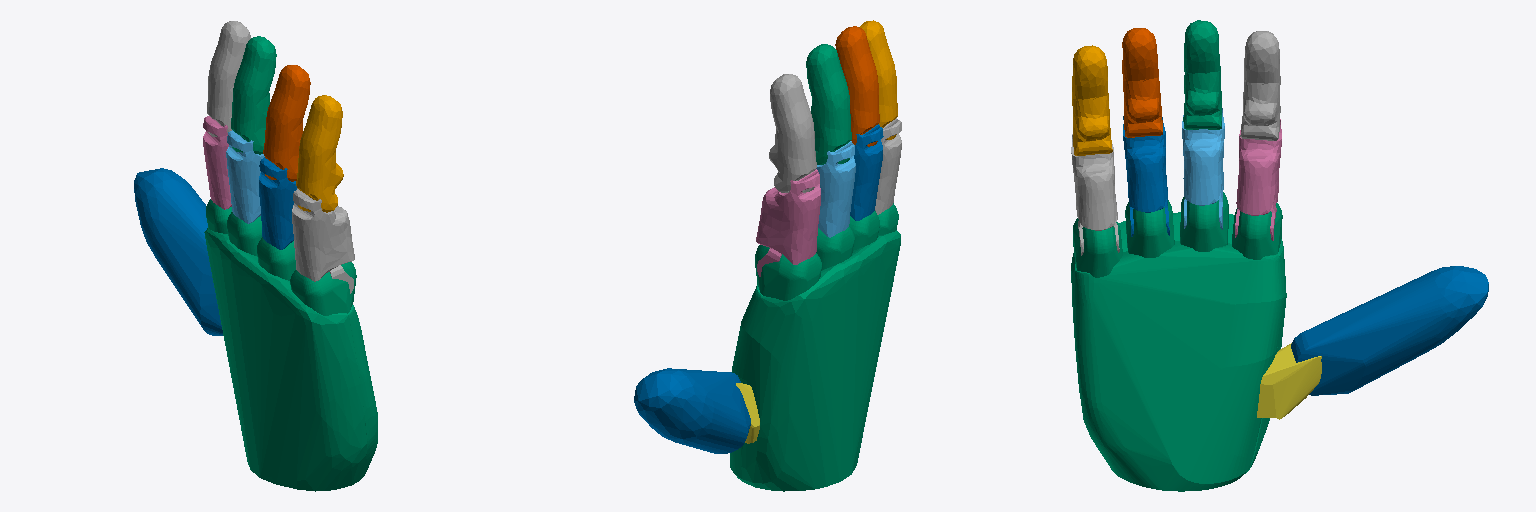
robot.urdf — ability_hand:
<?xml version='1.0' encoding='utf-8'?>
<robot name="ability_hand">
  <mujoco>
    <compiler balanceinertia="true" discardvisual="false" fusestatic="false" inertiafromgeom="false" />
  </mujoco>
  <link name="hand_root" />
  <joint name="hand_root_joint" type="fixed">
    <parent link="hand_root" />
    <child link="base" />
    <origin xyz="0 0 0" rpy="0 0 -1.57079" />
  </joint>
  <link name="base">
    <visual name="base_wristmesh_visual">
      <origin rpy="0 0 0" xyz="0 0 0" />
      <geometry>
        <mesh filename="meshes/visual/wristmesh.obj" />
      </geometry>
    </visual>
    <collision>
      <origin xyz="0 0 0" rpy="0 0 0" />
      <geometry>
        <mesh filename="meshes/collision/wristmesh_C_collision000.obj" />
      </geometry>
    </collision>
    <inertial>
      <mass value="0.200" />
      <inertia ixx="978.26e-6" ixy="87.34e-6" ixz="322.99e-6" iyy="1244.78e-6" iyz="244.74e-6" izz="456.22e-6" />
      <origin xyz="22.41911e-3 -0.15798201e-3 -0.01319866e-3" rpy="0 0 0" />
    </inertial>
  </link>
  <joint name="wrist2thumb" type="fixed">
    <parent link="base" />
    <child link="thumb_base" />
    <origin xyz="-24.0476665e-3 3.78124745e-3 32.32964923e-3" rpy="3.14148426 -0.08848813 -3.14036612" />
  </joint>
  <link name="thumb_base">
    <inertial>
      <mass value="0.200" />
      <inertia ixx="978.26e-6" ixy="87.34e-6" ixz="322.99e-6" iyy="1244.78e-6" iyz="244.74e-6" izz="456.22e-6" />
      <origin xyz="22.41911e-3 -0.15798201e-3 -0.01319866e-3" rpy="0 0 0" />
    </inertial>
    <visual name="thumb_base_FB_palm_ref_MIR_visual">
      <origin rpy="0 0 0" xyz="0 0 0" />
      <geometry>
        <mesh filename="meshes/visual/FB_palm_ref_MIR.obj" />
      </geometry>
    </visual>
    <collision name="thumb_base_collision_part000">
      <origin xyz="0 0 0" rpy="0 0 0" />
      <geometry>
        <mesh filename="meshes/collision/FB_palm_ref_MIR_collision000.obj" />
      </geometry>
    </collision>
    <collision name="thumb_base_collision_part001">
      <origin xyz="0 0 0" rpy="0 0 0" />
      <geometry>
        <mesh filename="meshes/collision/FB_palm_ref_MIR_collision001.obj" />
      </geometry>
    </collision>
    <collision name="thumb_base_collision_part002">
      <origin xyz="0 0 0" rpy="0 0 0" />
      <geometry>
        <mesh filename="meshes/collision/FB_palm_ref_MIR_collision002.obj" />
      </geometry>
    </collision>
    <collision name="thumb_base_collision_part003">
      <origin xyz="0 0 0" rpy="0 0 0" />
      <geometry>
        <mesh filename="meshes/collision/FB_palm_ref_MIR_collision003.obj" />
      </geometry>
    </collision>
    <collision name="thumb_base_collision_part004">
      <origin xyz="0 0 0" rpy="0 0 0" />
      <geometry>
        <mesh filename="meshes/collision/FB_palm_ref_MIR_collision004.obj" />
      </geometry>
    </collision>
  </link>
  <link name="thumb_L1">
    <inertial>
      <mass value="0.00268342" />
      <inertia ixx="0.16931e-4" ixy="-0.076214e-4" ixz="-0.16959148e-4" iyy="0.77769934e-4" iyz="0.0156622e-4" izz="0.7249122e-4" />
      <origin rpy="0 0 0" xyz="14.606e-3 -1.890854e-3 -3.1155356e-3" />
    </inertial>
    <visual name="thumb_L1_thumb-F1-MIR_visual">
      <origin xyz=" 27.8283501e-3 1.7436510745838653e-19 14.7507e-3 " rpy=" 1.832595714594045 -0.0 5.366520605522463e-18 " />
      <geometry>
        <mesh filename="meshes/visual/thumb-F1-MIR.obj" />
      </geometry>
    </visual>
    <collision>
      <origin xyz="27.8283501e-3 1.7436510745838653e-19 14.7507e-3" rpy="1.832595714594045 -0.0 5.366520605522463e-18" />
      <geometry>
        <mesh filename="meshes/collision/thumb-F1-MIR_C_collision000.obj" />
      </geometry>
    </collision>
  </link>
  <link name="thumb_L2">
    <inertial>
      <mass value="0.0055" />
      <inertia ixx="4.4789082e-4" ixy="4.4789082e-4" ixz="-0.62144934e-4" iyy="15.600996e-4" iyz="-0.07466143e-4" izz="17.908554e-4" />
      <origin rpy="0 0 0" xyz="30.020522e-3 5.59476e-3 -4.1504356e-3" />
    </inertial>
    <visual name="thumb_L2_thumb-F2_visual">
      <origin xyz="65.18669e-3 23.34021e-3 3.93483e-3" rpy="-3.141592 0 0.343830" />
      <geometry>
        <mesh filename="meshes/visual/thumb-F2.obj" />
      </geometry>
    </visual>
    <collision>
      <origin xyz="65.18669e-3 23.34021e-3 3.93483e-3" rpy="-3.141592 0 0.343830" />
      <geometry>
        <mesh filename="meshes/collision/thumb-F2_C_collision000.obj" />
      </geometry>
    </collision>
  </link>
  <joint name="thumb_q1" type="revolute">
    <parent link="thumb_base" />
    <child link="thumb_L1" />
    <origin xyz=" 0.0 0.0 0.0 " rpy=" 3.141592653589793 -0.0 -0.18884434641020664 " />
    <axis xyz="0 0 1" />
    <limit lower="-2.0943951" upper="0" effort="1.2" velocity="40.338888721" />
    <dynamics damping="0.001" friction="0.001" />
  </joint>
  <joint name="thumb_q2" type="revolute">
    <parent link="thumb_L1" />
    <child link="thumb_L2" />
    <origin xyz=" 27.8283501e-3 1.7436510745838653e-19 14.7507e-3 " rpy=" 1.832595714594045 -0.0 5.366520605522463e-18 " />
    <axis xyz="0 0 1" />
    <limit lower="0" upper="2.0943951" effort="6.0" velocity="8.0677777442" />
    <dynamics damping="0.001" friction="0.001" />
  </joint>
  <link name="thumb_tip" />
  <joint name="thumb_tip_joint" type="fixed">
    <parent link="thumb_L2" />
    <child link="thumb_tip" />
    <origin rpy="0 0 0" xyz="0.065 0.016 0" />
  </joint>
  <link name="index_L1">
    <inertial>
      <mass value="0.00635888" />
      <inertia ixx="0.29766e-4" ixy="-0.06447133e-4" ixz="-0.00423315e-4" iyy="3.6947967e-4" iyz="0.00083028e-4" izz="3.8176336e-4" />
      <origin xyz="22.41911e-3 -0.15798201e-3 -0.01319866e-3" rpy="0 0 0" />
    </inertial>
    <visual name="index_L1_idx-F1_visual">
      <origin xyz="38.472723e-3 3.257695e-3 0.000000" rpy="0 0 0.084474" />
      <geometry>
        <mesh filename="meshes/visual/idx-F1.obj" />
      </geometry>
    </visual>
    <collision>
      <origin xyz="0.036 -0.00175 0" rpy="0 0 0" />
      <geometry>
        <sphere radius="0.0085" />
      </geometry>
    </collision>
    <collision>
      <origin xyz="0.019 -0.0045 0" rpy="0 0 0.0845" />
      <geometry>
        <box size="0.028 0.012 0.016" />
      </geometry>
    </collision>
    <collision>
      <origin xyz="0.018 0.006 0" rpy="0 0 0.0845" />
      <geometry>
        <box size="0.02 0.01 0.016" />
      </geometry>
    </collision>
    <collision>
      <origin xyz="-0.001 0 0.007" rpy="0 0 0.0845" />
      <geometry>
        <box size="0.012 0.012 0.002" />
      </geometry>
    </collision>
    <collision>
      <origin xyz="-0.001 0 -0.007" rpy="0 0 0.0845" />
      <geometry>
        <box size="0.012 0.012 0.002" />
      </geometry>
    </collision>
  </link>
  <link name="index_L2">
    <inertial>
      <mass value="0.00645" />
      <inertia ixx="0.82671e-4" ixy="-1.08876e-4" ixz="-0.00037e-4" iyy="1.98028e-4" iyz="0.00081e-4" izz="2.64638e-4" />
      <origin rpy="0 0 0" xyz="13.36818e-3 -8.75392e-3 -0.02886e-3" />
    </inertial>
    <visual name="index_L2_idx-F2_visual">
      <origin rpy="0 0 0" xyz="9.1241e-3 0 0" />
      <geometry>
        <mesh filename="meshes/visual/idx-F2.obj" />
      </geometry>
    </visual>
    <collision name="index_L2_collision_part000">
      <origin xyz="0 0 0" rpy="0 0 0" />
      <geometry>
        <mesh filename="meshes/collision/idx-F2_C_collision000.obj" />
      </geometry>
    </collision>
    <collision name="index_L2_collision_part001">
      <origin xyz="0 0 0" rpy="0 0 0" />
      <geometry>
        <mesh filename="meshes/collision/idx-F2_C_collision001.obj" />
      </geometry>
    </collision>
    <collision name="index_L2_collision_part002">
      <origin xyz="0 0 0" rpy="0 0 0" />
      <geometry>
        <mesh filename="meshes/collision/idx-F2_C_collision002.obj" />
      </geometry>
    </collision>
    <collision name="index_L2_collision_part003">
      <origin xyz="0 0 0" rpy="0 0 0" />
      <geometry>
        <mesh filename="meshes/collision/idx-F2_C_collision003.obj" />
      </geometry>
    </collision>
    <collision>
      <origin xyz="0.03 -0.016 0" rpy="0 0 0" />
      <geometry>
        <sphere radius="0.007" />
      </geometry>
    </collision>
  </link>
  <joint name="index_q1" type="revolute">
    <parent link="thumb_base" />
    <child link="index_L1" />
    <origin xyz=" 9.49e-3 -13.04e-3 -62.95e-3 " rpy=" -1.1595426535897932 1.284473 -1.0510016535897932 " />
    <axis xyz="0 0 1" />
    <limit lower="0" upper="2.0943951" effort="6.0" velocity="8.0677777442" />
    <dynamics damping="0.001" friction="0.001" />
  </joint>
  <joint name="index_q2" type="revolute">
    <parent link="index_L1" />
    <child link="index_L2" />
    <origin xyz="38.472723e-3 3.257695e-3 0.000000e-3" rpy="0 0 0.084474" />
    <axis xyz="0 0 1" />
    <limit lower="0.0" upper="2.6586" effort="6.0" velocity="8.0677777442" />
    <dynamics damping="0.001" friction="0.001" />
    <mimic joint="index_q1" multiplier="1.05851325" offset="0.72349796" />
  </joint>
  <link name="index_tip" />
  <joint name="index_tip_joint" type="fixed">
    <parent link="index_L2" />
    <child link="index_tip" />
    <origin rpy="0 0 0" xyz="0.035  -0.018 0" />
  </joint>
  <link name="middle_L1">
    <inertial>
      <mass value="0.00635888" />
      <inertia ixx="0.29766e-4" ixy="-0.06447133e-4" ixz="-0.00423315e-4" iyy="3.6947967e-4" iyz="0.00083028e-4" izz="3.8176336e-4" />
      <origin xyz="22.41911e-3 -0.15798201e-3 -0.01319866e-3" rpy="0 0 0" />
    </inertial>
    <visual name="middle_L1_idx-F1_visual">
      <origin xyz="38.472723e-3 3.257695e-3 0.000000" rpy="0 0 0.084474" />
      <geometry>
        <mesh filename="meshes/visual/idx-F1.obj" />
      </geometry>
    </visual>
    <collision>
      <origin xyz="0.036 -0.00175 0" rpy="0 0 0" />
      <geometry>
        <sphere radius="0.0085" />
      </geometry>
    </collision>
    <collision>
      <origin xyz="0.019 -0.0045 0" rpy="0 0 0.0845" />
      <geometry>
        <box size="0.028 0.012 0.016" />
      </geometry>
    </collision>
    <collision>
      <origin xyz="0.018 0.006 0" rpy="0 0 0.0845" />
      <geometry>
        <box size="0.02 0.01 0.016" />
      </geometry>
    </collision>
    <collision>
      <origin xyz="-0.001 0 0.007" rpy="0 0 0.0845" />
      <geometry>
        <box size="0.012 0.012 0.002" />
      </geometry>
    </collision>
    <collision>
      <origin xyz="-0.001 0 -0.007" rpy="0 0 0.0845" />
      <geometry>
        <box size="0.012 0.012 0.002" />
      </geometry>
    </collision>
  </link>
  <link name="middle_L2">
    <inertial>
      <mass value="0.00645" />
      <inertia ixx="0.82671e-4" ixy="-1.08876e-4" ixz="-0.00037e-4" iyy="1.98028e-4" iyz="0.00081e-4" izz="2.64638e-4" />
      <origin rpy="0 0 0" xyz="13.36818e-3 -8.75392e-3 -0.02886e-3" />
    </inertial>
    <visual name="middle_L2_idx-F2_visual">
      <origin rpy="0 0 0" xyz="9.1241e-3 0 0" />
      <geometry>
        <mesh filename="meshes/visual/idx-F2.obj" />
      </geometry>
    </visual>
    <collision name="middle_L2_collision_part000">
      <origin xyz="0 0 0" rpy="0 0 0" />
      <geometry>
        <mesh filename="meshes/collision/idx-F2_C_collision000.obj" />
      </geometry>
    </collision>
    <collision name="middle_L2_collision_part001">
      <origin xyz="0 0 0" rpy="0 0 0" />
      <geometry>
        <mesh filename="meshes/collision/idx-F2_C_collision001.obj" />
      </geometry>
    </collision>
    <collision name="middle_L2_collision_part002">
      <origin xyz="0 0 0" rpy="0 0 0" />
      <geometry>
        <mesh filename="meshes/collision/idx-F2_C_collision002.obj" />
      </geometry>
    </collision>
    <collision name="middle_L2_collision_part003">
      <origin xyz="0 0 0" rpy="0 0 0" />
      <geometry>
        <mesh filename="meshes/collision/idx-F2_C_collision003.obj" />
      </geometry>
    </collision>
    <collision>
      <origin xyz="0.03 -0.016 0" rpy="0 0 0" />
      <geometry>
        <sphere radius="0.007" />
      </geometry>
    </collision>
  </link>
  <joint name="middle_q1" type="revolute">
    <parent link="thumb_base" />
    <child link="middle_L1" />
    <origin xyz=" -9.653191e-3 -15.310271e-3 -67.853949e-3 " rpy=" -1.2810616535897934 1.308458 -1.2453756535897933 " />
    <limit lower="0" upper="2.0943951" effort="6.0" velocity="8.0677777442" />
    <dynamics damping="0.001" friction="0.001" />
    <axis xyz="0 0 1" />
  </joint>
  <joint name="middle_q2" type="revolute">
    <parent link="middle_L1" />
    <child link="middle_L2" />
    <origin xyz="38.472723e-3 3.257695e-3 0.000000" rpy="0 0 0.084474" />
    <axis xyz="0 0 1" />
    <limit lower="0.0" upper="2.6586" effort="6.0" velocity="8.0677777442" />
    <dynamics damping="0.001" friction="0.001" />
    <mimic joint="middle_q1" multiplier="1.05851325" offset="0.72349796" />
  </joint>
  <link name="middle_tip" />
  <joint name="middle_tip_joint" type="fixed">
    <parent link="middle_L2" />
    <child link="middle_tip" />
    <origin rpy="0 0 0" xyz="0.035  -0.018 0" />
  </joint>
  <link name="ring_L1">
    <inertial>
      <mass value="0.00635888" />
      <inertia ixx="0.29766e-4" ixy="-0.06447133e-4" ixz="-0.00423315e-4" iyy="3.6947967e-4" iyz="0.00083028e-4" izz="3.8176336e-4" />
      <origin xyz="22.41911e-3 -0.15798201e-3 -0.01319866e-3" rpy="0 0 0" />
    </inertial>
    <visual name="ring_L1_idx-F1_visual">
      <origin xyz="38.472723e-3 3.257695e-3 0.000000" rpy="0 0 0.084474" />
      <geometry>
        <mesh filename="meshes/visual/idx-F1.obj" />
      </geometry>
    </visual>
    <collision>
      <origin xyz="0.036 -0.00175 0" rpy="0 0 0" />
      <geometry>
        <sphere radius="0.0085" />
      </geometry>
    </collision>
    <collision>
      <origin xyz="0.019 -0.0045 0" rpy="0 0 0.0845" />
      <geometry>
        <box size="0.028 0.012 0.016" />
      </geometry>
    </collision>
    <collision>
      <origin xyz="0.018 0.006 0" rpy="0 0 0.0845" />
      <geometry>
        <box size="0.02 0.01 0.016" />
      </geometry>
    </collision>
    <collision>
      <origin xyz="-0.001 0 0.007" rpy="0 0 0.0845" />
      <geometry>
        <box size="0.012 0.012 0.002" />
      </geometry>
    </collision>
    <collision>
      <origin xyz="-0.001 0 -0.007" rpy="0 0 0.0845" />
      <geometry>
        <box size="0.012 0.012 0.002" />
      </geometry>
    </collision>
  </link>
  <link name="ring_L2">
    <inertial>
      <mass value="0.00645" />
      <inertia ixx="0.82671e-4" ixy="-1.08876e-4" ixz="-0.00037e-4" iyy="1.98028e-4" iyz="0.00081e-4" izz="2.64638e-4" />
      <origin rpy="0 0 0" xyz="13.36818e-3 -8.75392e-3 -0.02886e-3" />
    </inertial>
    <visual name="ring_L2_idx-F2_visual">
      <origin rpy="0 0 0" xyz="9.1241e-3 0 0" />
      <geometry>
        <mesh filename="meshes/visual/idx-F2.obj" />
      </geometry>
    </visual>
    <collision name="ring_L2_collision_part000">
      <origin xyz="0 0 0" rpy="0 0 0" />
      <geometry>
        <mesh filename="meshes/collision/idx-F2_C_collision000.obj" />
      </geometry>
    </collision>
    <collision name="ring_L2_collision_part001">
      <origin xyz="0 0 0" rpy="0 0 0" />
      <geometry>
        <mesh filename="meshes/collision/idx-F2_C_collision001.obj" />
      </geometry>
    </collision>
    <collision name="ring_L2_collision_part002">
      <origin xyz="0 0 0" rpy="0 0 0" />
      <geometry>
        <mesh filename="meshes/collision/idx-F2_C_collision002.obj" />
      </geometry>
    </collision>
    <collision name="ring_L2_collision_part003">
      <origin xyz="0 0 0" rpy="0 0 0" />
      <geometry>
        <mesh filename="meshes/collision/idx-F2_C_collision003.obj" />
      </geometry>
    </collision>
    <collision>
      <origin xyz="0.03 -0.016 0" rpy="0 0 0" />
      <geometry>
        <sphere radius="0.007" />
      </geometry>
    </collision>
  </link>
  <joint name="ring_q1" type="revolute">
    <parent link="thumb_base" />
    <child link="ring_L1" />
    <origin xyz=" -29.95426e-3 -14.212492e-3 -67.286105e-3 " rpy=" -1.424994653589793 1.321452 -1.4657306535897934 " />
    <limit lower="0" upper="2.0943951" effort="6.0" velocity="8.0677777442" />
    <dynamics damping="0.001" friction="0.001" />
    <axis xyz="0 0 1" />
  </joint>
  <joint name="ring_q2" type="revolute">
    <parent link="ring_L1" />
    <child link="ring_L2" />
    <origin xyz="38.472723e-3 3.257695e-3 0.000000" rpy="0 0 0.084474" />
    <axis xyz="0 0 1" />
    <limit lower="0.0" upper="2.6586" effort="6.0" velocity="8.0677777442" />
    <dynamics damping="0.001" friction="0.001" />
    <mimic joint="ring_q1" multiplier="1.05851325" offset="0.72349796" />
  </joint>
  <link name="ring_tip" />
  <joint name="ring_tip_joint" type="fixed">
    <parent link="ring_L2" />
    <child link="ring_tip" />
    <origin rpy="0 0 0" xyz="0.035  -0.018 0" />
  </joint>
  <link name="pinky_L1">
    <inertial>
      <mass value="0.00635888" />
      <inertia ixx="0.29766e-4" ixy="-0.06447133e-4" ixz="-0.00423315e-4" iyy="3.6947967e-4" iyz="0.00083028e-4" izz="3.8176336e-4" />
      <origin xyz="22.41911e-3 -0.15798201e-3 -0.01319866e-3" rpy="0 0 0" />
    </inertial>
    <visual name="pinky_L1_idx-F1_visual">
      <origin xyz="38.472723e-3 3.257695e-3 0.000000" rpy="0 0 0.084474" />
      <geometry>
        <mesh filename="meshes/visual/idx-F1.obj" />
      </geometry>
    </visual>
    <collision>
      <origin xyz="0.036 -0.00175 0" rpy="0 0 0" />
      <geometry>
        <sphere radius="0.0085" />
      </geometry>
    </collision>
    <collision>
      <origin xyz="0.019 -0.0045 0" rpy="0 0 0.0845" />
      <geometry>
        <box size="0.028 0.012 0.016" />
      </geometry>
    </collision>
    <collision>
      <origin xyz="0.018 0.006 0" rpy="0 0 0.0845" />
      <geometry>
        <box size="0.02 0.01 0.016" />
      </geometry>
    </collision>
    <collision>
      <origin xyz="-0.001 0 0.007" rpy="0 0 0.0845" />
      <geometry>
        <box size="0.012 0.012 0.002" />
      </geometry>
    </collision>
    <collision>
      <origin xyz="-0.001 0 -0.007" rpy="0 0 0.0845" />
      <geometry>
        <box size="0.012 0.012 0.002" />
      </geometry>
    </collision>
  </link>
  <link name="pinky_L2">
    <inertial>
      <mass value="0.00645" />
      <inertia ixx="0.82671e-4" ixy="-1.08876e-4" ixz="-0.00037e-4" iyy="1.98028e-4" iyz="0.00081e-4" izz="2.64638e-4" />
      <origin rpy="0 0 0" xyz="13.36818e-3 -8.75392e-3 -0.02886e-3" />
    </inertial>
    <visual name="pinky_L2_idx-F2_visual">
      <origin rpy="0 0 0" xyz="9.1241e-3 0 0" />
      <geometry>
        <mesh filename="meshes/visual/idx-F2.obj" />
      </geometry>
    </visual>
    <collision name="pinky_L2_collision_part000">
      <origin xyz="0 0 0" rpy="0 0 0" />
      <geometry>
        <mesh filename="meshes/collision/idx-F2_C_collision000.obj" />
      </geometry>
    </collision>
    <collision name="pinky_L2_collision_part001">
      <origin xyz="0 0 0" rpy="0 0 0" />
      <geometry>
        <mesh filename="meshes/collision/idx-F2_C_collision001.obj" />
      </geometry>
    </collision>
    <collision name="pinky_L2_collision_part002">
      <origin xyz="0 0 0" rpy="0 0 0" />
      <geometry>
        <mesh filename="meshes/collision/idx-F2_C_collision002.obj" />
      </geometry>
    </collision>
    <collision name="pinky_L2_collision_part003">
      <origin xyz="0 0 0" rpy="0 0 0" />
      <geometry>
        <mesh filename="meshes/collision/idx-F2_C_collision003.obj" />
      </geometry>
    </collision>
    <collision>
      <origin xyz="0.03 -0.016 0" rpy="0 0 0" />
      <geometry>
        <sphere radius="0.007" />
      </geometry>
    </collision>
  </link>
  <joint name="pinky_q1" type="revolute">
    <parent link="thumb_base" />
    <child link="pinky_L1" />
    <origin xyz=" -49.521293e-3 -11.004583e-3 -63.029065e-3 " rpy=" -1.3764826535897934 1.32222 -1.4832096535897932 " />
    <limit lower="0" upper="2.0943951" effort="6.0" velocity="8.0677777442" />
    <dynamics damping="0.001" friction="0.001" />
    <axis xyz="0 0 1" />
  </joint>
  <joint name="pinky_q2" type="revolute">
    <parent link="pinky_L1" />
    <child link="pinky_L2" />
    <origin xyz="38.472723e-3 3.257695e-3 0.000000" rpy="0 0 0.084474" />
    <limit lower="0.0" upper="2.6586" effort="6.0" velocity="8.0677777442" />
    <dynamics damping="0.001" friction="0.001" />
    <axis xyz="0 0 1" />
    <mimic joint="pinky_q1" multiplier="1.05851325" offset="0.72349796" />
  </joint>
  <link name="pinky_tip" />
  <joint name="pinky_tip_joint" type="fixed">
    <parent link="pinky_L2" />
    <child link="pinky_tip" />
    <origin rpy="0 0 0" xyz="0.035  -0.018 0" />
  </joint>
</robot>

--- Facts derived from the render (not from the file) ---
The picture shows the robot from 3 angles, left to right: view 1: azimuth 30°, elevation 25°; view 2: azimuth 150°, elevation 25°; view 3: azimuth 270°, elevation 25°; orthographic projection.
Robot: ability_hand — 18 links, 17 joints (10 revolute, 7 fixed); root link hand_root; default pose: all joints at 0.
Links seen in each view (by area): view 1: thumb_base, thumb_L2, pinky_L1, pinky_L2, ring_L2, middle_L2, index_L2, ring_L1, middle_L1, index_L1; view 2: thumb_base, thumb_L2, index_L1, index_L2, middle_L2, ring_L2, middle_L1, ring_L1, pinky_L2, pinky_L1, thumb_L1; view 3: thumb_base, thumb_L2, index_L2, middle_L2, pinky_L2, ring_L2, index_L1, pinky_L1, middle_L1, ring_L1, thumb_L1.
Boxes of the visible links, left/top/right/bottom form: thumb_base: left=204, top=199, right=377, bottom=491; thumb_L2: left=134, top=168, right=222, bottom=335; pinky_L1: left=292, top=188, right=354, bottom=293; pinky_L2: left=296, top=95, right=343, bottom=212; ring_L2: left=263, top=65, right=310, bottom=181; middle_L2: left=231, top=36, right=276, bottom=154; index_L2: left=207, top=21, right=250, bottom=136; ring_L1: left=259, top=157, right=296, bottom=249; middle_L1: left=226, top=130, right=264, bottom=223; index_L1: left=203, top=116, right=231, bottom=209; thumb_base: left=730, top=203, right=900, bottom=491; thumb_L2: left=634, top=368, right=750, bottom=453; index_L1: left=756, top=169, right=820, bottom=276; index_L2: left=769, top=74, right=816, bottom=192; middle_L2: left=806, top=44, right=851, bottom=164; ring_L2: left=835, top=26, right=879, bottom=146; middle_L1: left=816, top=141, right=855, bottom=237; ring_L1: left=850, top=124, right=883, bottom=220; pinky_L2: left=859, top=20, right=897, bottom=139; pinky_L1: left=875, top=118, right=901, bottom=214; thumb_L1: left=736, top=383, right=759, bottom=443; thumb_base: left=1071, top=192, right=1286, bottom=491; thumb_L2: left=1291, top=266, right=1488, bottom=395; index_L2: left=1240, top=31, right=1280, bottom=140; middle_L2: left=1183, top=20, right=1221, bottom=129; pinky_L2: left=1072, top=45, right=1112, bottom=155; ring_L2: left=1122, top=28, right=1162, bottom=137; index_L1: left=1235, top=119, right=1281, bottom=240; pinky_L1: left=1071, top=134, right=1119, bottom=255; middle_L1: left=1182, top=108, right=1224, bottom=229; ring_L1: left=1123, top=116, right=1169, bottom=236; thumb_L1: left=1257, top=343, right=1321, bottom=419.
Size in the robot's own frame: 0.053 by 0.1566 by 0.1779 metres.
12 mesh visuals loaded from 6 distinct referenced files (6 OBJ).
